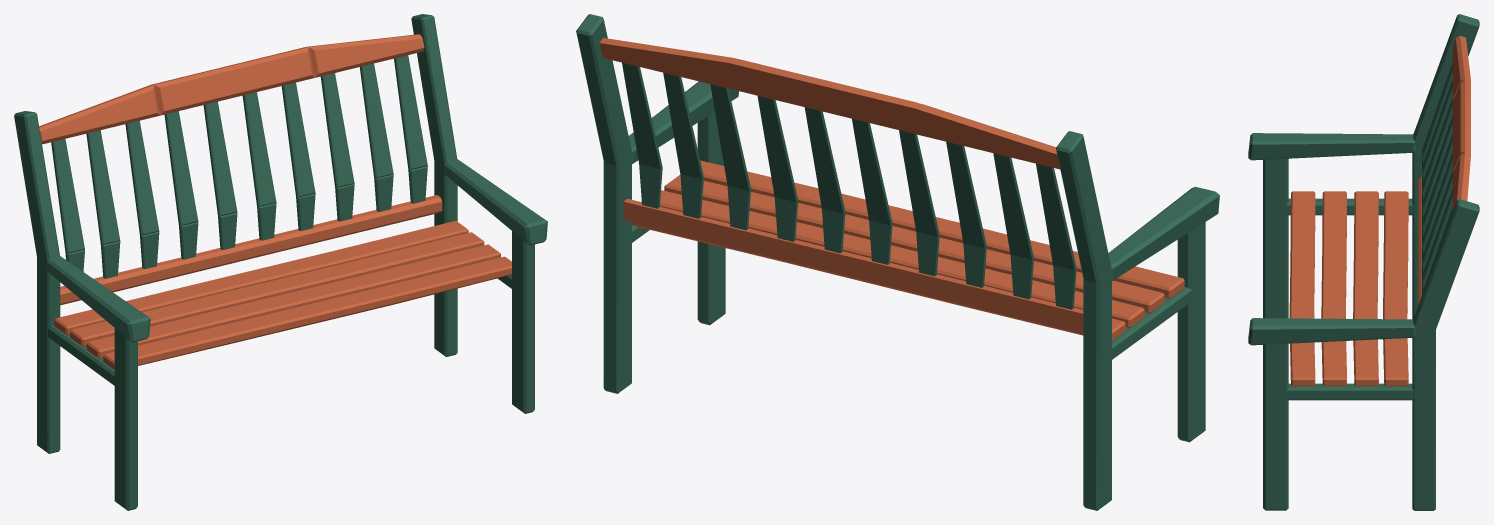
The model's file is bench_a001.glb.
The picture shows the model from 3 angles, left to right: view 1: azimuth 30°, elevation 25°; view 2: azimuth 150°, elevation 25°; view 3: azimuth 270°, elevation 25°; orthographic projection. The views are drawn at different scales.
Visible parts, largest first — view 1: bench_a001; view 2: bench_a001; view 3: bench_a001.
Part boxes in pixels (x1,y1,x2,y2): bench_a001: [14, 14, 547, 510]; bench_a001: [576, 14, 1219, 510]; bench_a001: [1248, 14, 1479, 510].
Bounding box in the file's own units: 1.38 × 1.01 × 0.6873.
1 material, 1 textured.
